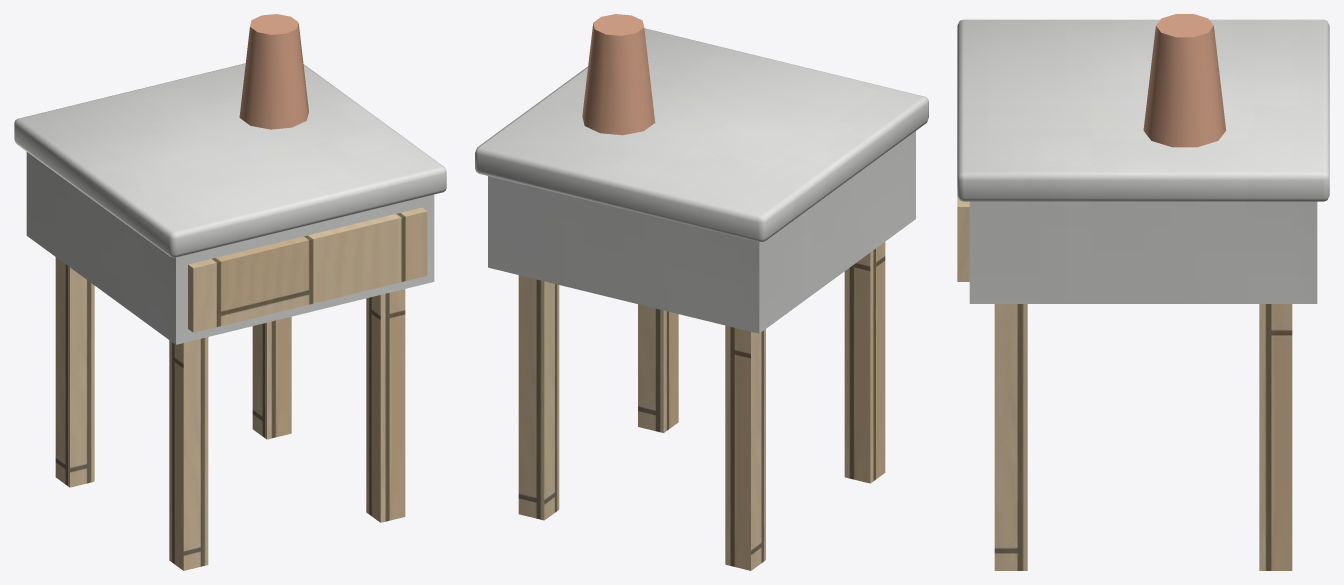
The picture shows the model from 3 angles, left to right: view 1: azimuth 30°, elevation 25°; view 2: azimuth 150°, elevation 25°; view 3: azimuth 270°, elevation 25°; orthographic projection. The views are drawn at different scales.
Visible parts, largest first — view 1: Decor_side_table; view 2: Decor_side_table; view 3: Decor_side_table.
Part boxes in pixels (bbox=[...]): Decor_side_table: bbox=[14, 14, 446, 570]; Decor_side_table: bbox=[475, 14, 928, 570]; Decor_side_table: bbox=[957, 14, 1329, 570].
Bounding box in the file's own units: 0.45 × 0.69 × 0.45.
3 materials, 2 textured.
